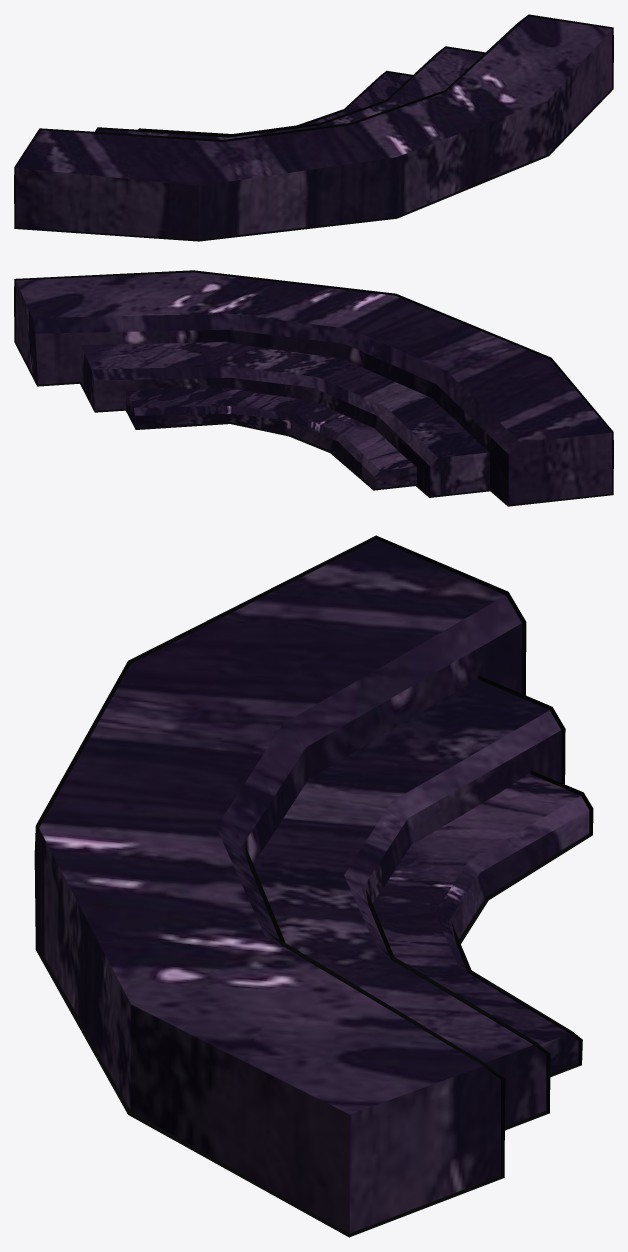
The model's file is entity236490.gltf.
3 renders of one model, top to bottom at view 1: azimuth 30°, elevation 25°; view 2: azimuth 150°, elevation 25°; view 3: azimuth 270°, elevation 25°, orthographic. The views are drawn at different scales.
Parts seen in each view (by area): view 1: node_Str_Amphitheater_014; view 2: node_Str_Amphitheater_014; view 3: node_Str_Amphitheater_014.
Boxes of the visible parts, x1,y1,x2,y2 form: node_Str_Amphitheater_014: [14, 14, 613, 241]; node_Str_Amphitheater_014: [14, 270, 613, 506]; node_Str_Amphitheater_014: [34, 535, 593, 1237].
Size of what is drawn, in the model's own units: 21.56 by 2.21 by 8.79.
